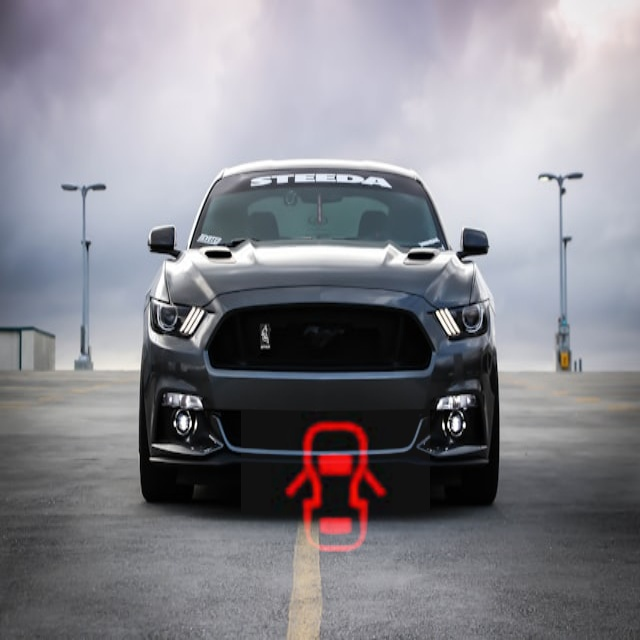symbol: (241, 397, 430, 586)
